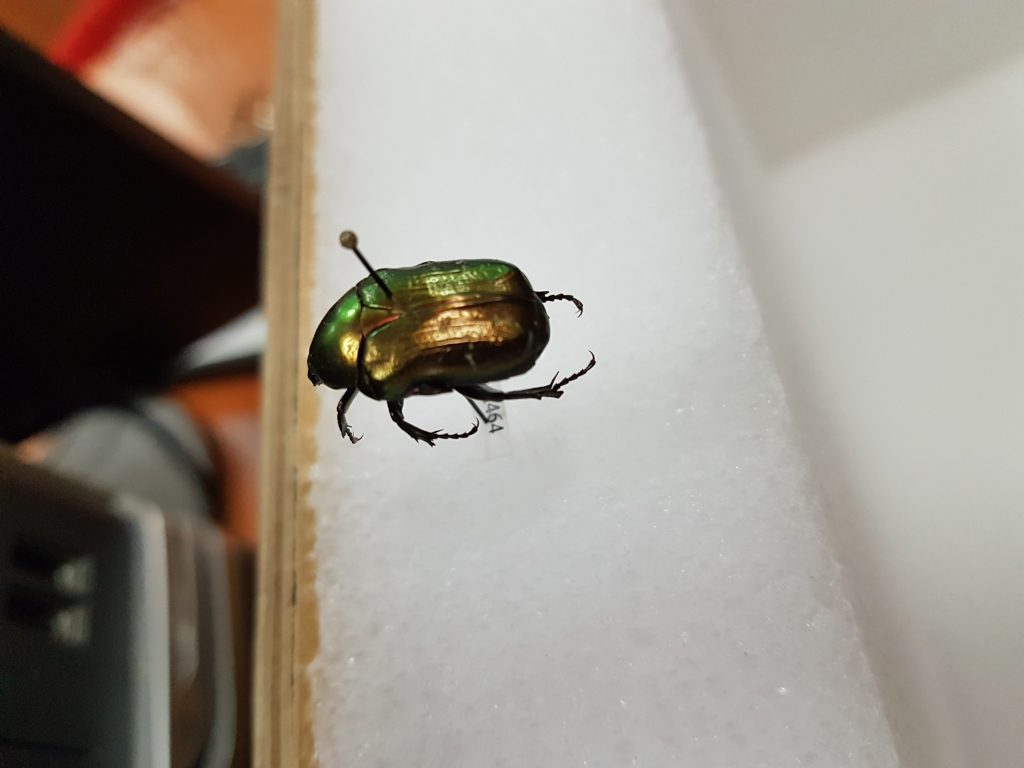Cetonia_kemali: (301, 255, 601, 453)
